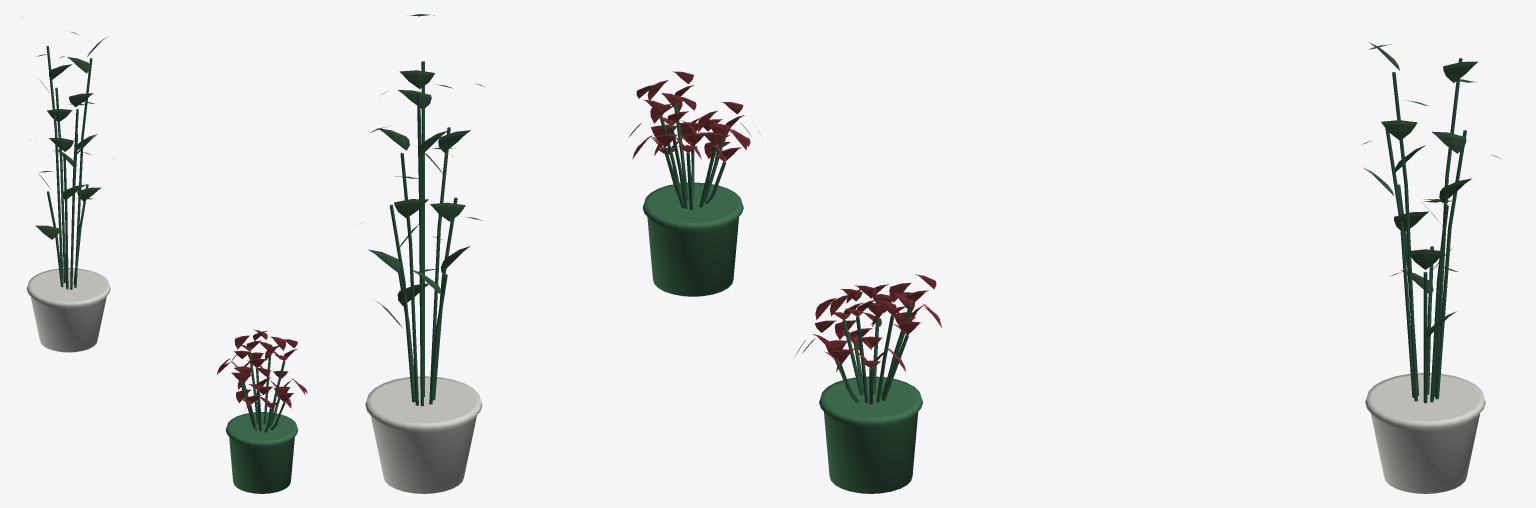
Rendered from plants.glb.
3 views of the same model, side by side, from view 1: azimuth 30°, elevation 25°; view 2: azimuth 150°, elevation 25°; view 3: azimuth 270°, elevation 25° (orthographic). The views are drawn at different scales.
Visible parts, largest first — view 1: G012_plants; view 2: G012_plants; view 3: G012_plants.
Part boxes in pixels (x1,y1,x2,y2): G012_plants: (20, 18, 307, 493); G012_plants: (361, 14, 762, 493); G012_plants: (795, 42, 1500, 493).
Bounding box in the file's own units: 0.212 × 0.6552 × 0.9664.
